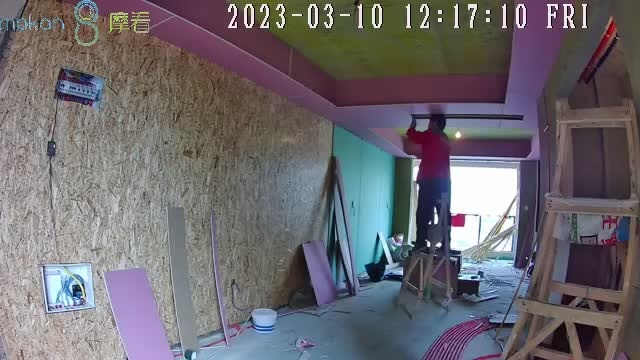people: (407, 113, 452, 252)
window: (454, 166, 519, 257)
